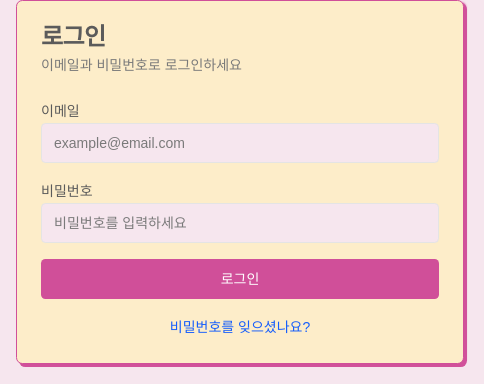
Test: LoginForm › 로딩 중일 때 버튼이 비활성화된다
Type "test@example.com" into the field labelled "이메일".
click(240, 143); type("test@example.com")  # box [41,123,439,163]
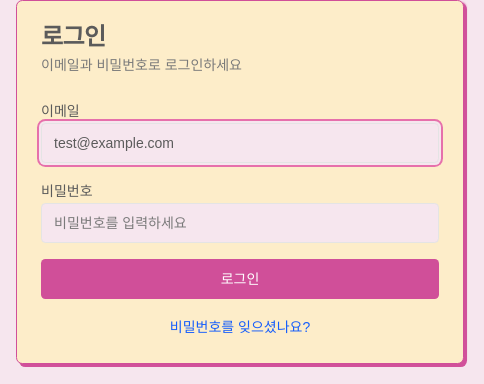
Type "password123" into the password field labelled "비밀번호".
click(240, 223); type("password123")  # box [41,203,439,243]
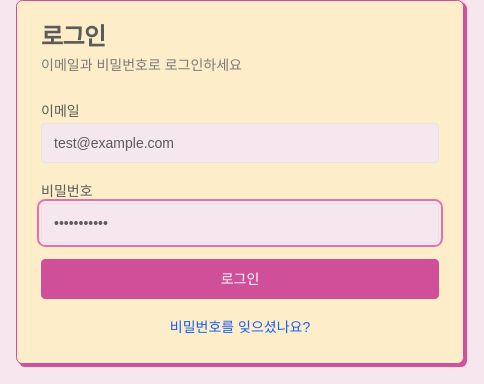
Click the button "로그인".
click(240, 279)  # box [41,259,439,299]
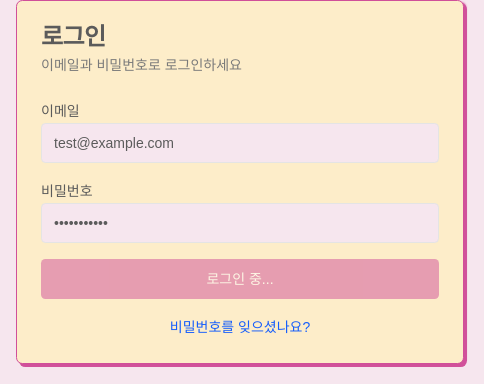
Expected: the button "로그인 중..." is disabled, [41,259,439,299]
